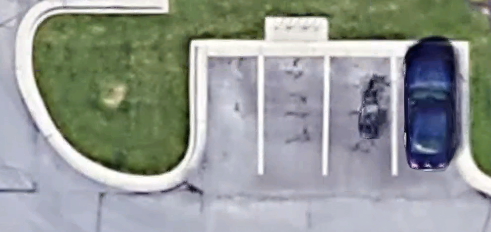Occupied: (326, 51, 395, 175), (394, 51, 462, 176)
Vacant: (259, 51, 326, 176), (201, 51, 260, 176)
